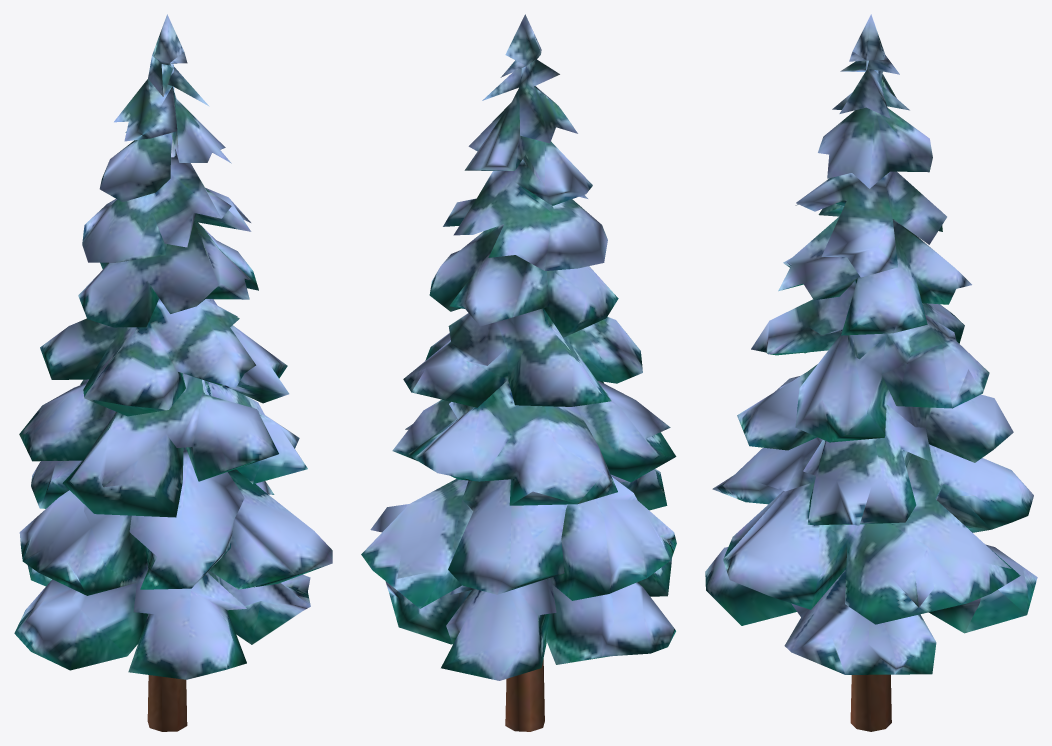
The model's file is SM_Tree_Tall.glb.
3 renders of one model, left to right at view 1: azimuth 30°, elevation 25°; view 2: azimuth 150°, elevation 25°; view 3: azimuth 270°, elevation 25°, orthographic.
Parts seen in each view (by area): view 1: SM_Tree_Tall; view 2: SM_Tree_Tall; view 3: SM_Tree_Tall.
Boxes of the visible parts, x1,y1,x2,y2 form: SM_Tree_Tall: (14, 14, 332, 731); SM_Tree_Tall: (361, 14, 676, 731); SM_Tree_Tall: (705, 14, 1037, 731).
Size of what is drawn, in the model's own units: 3.65 by 9.02 by 3.83.
Materials: 1 (1 with a texture image).
